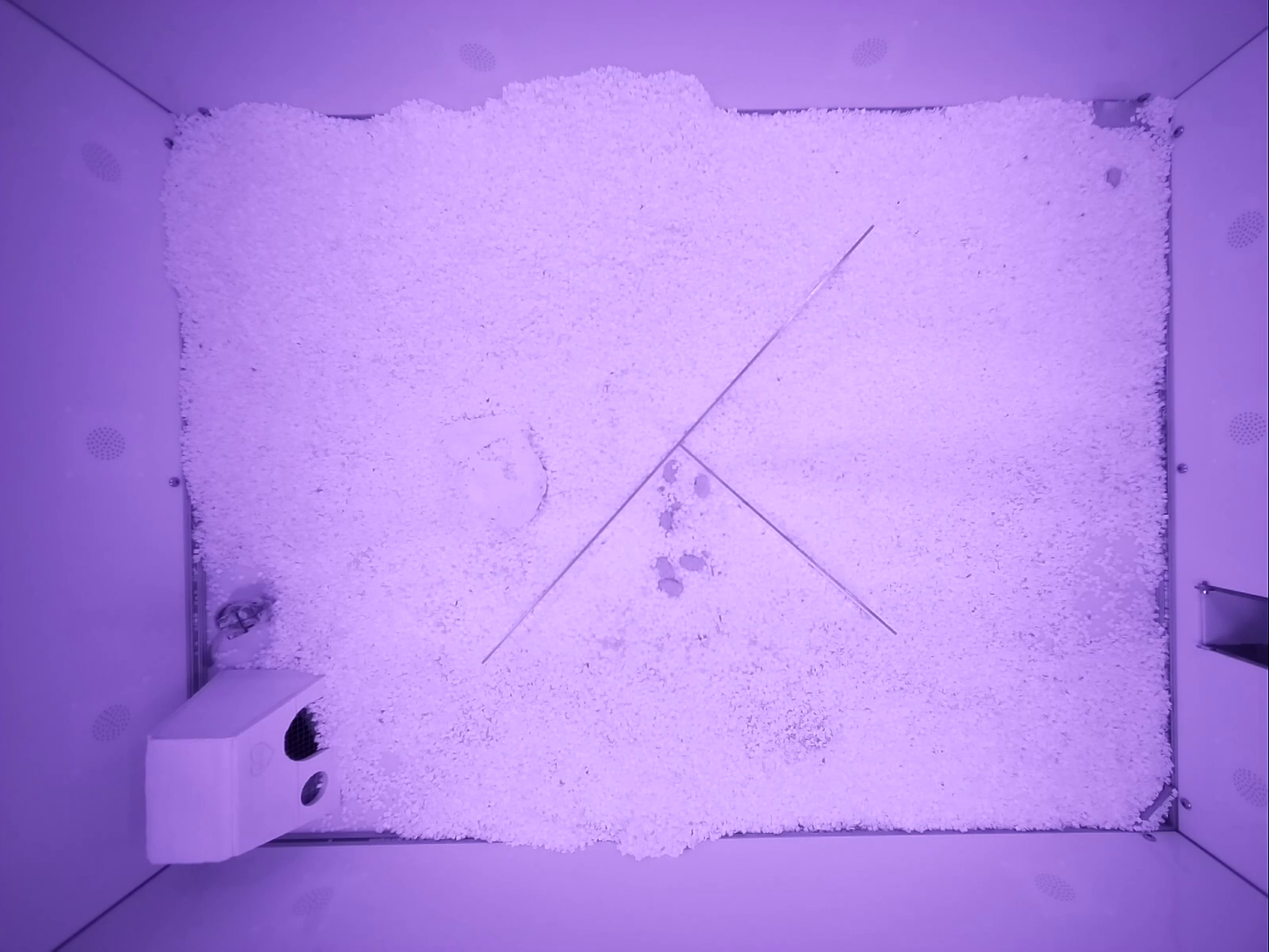adult_back: (210, 591, 273, 667)
